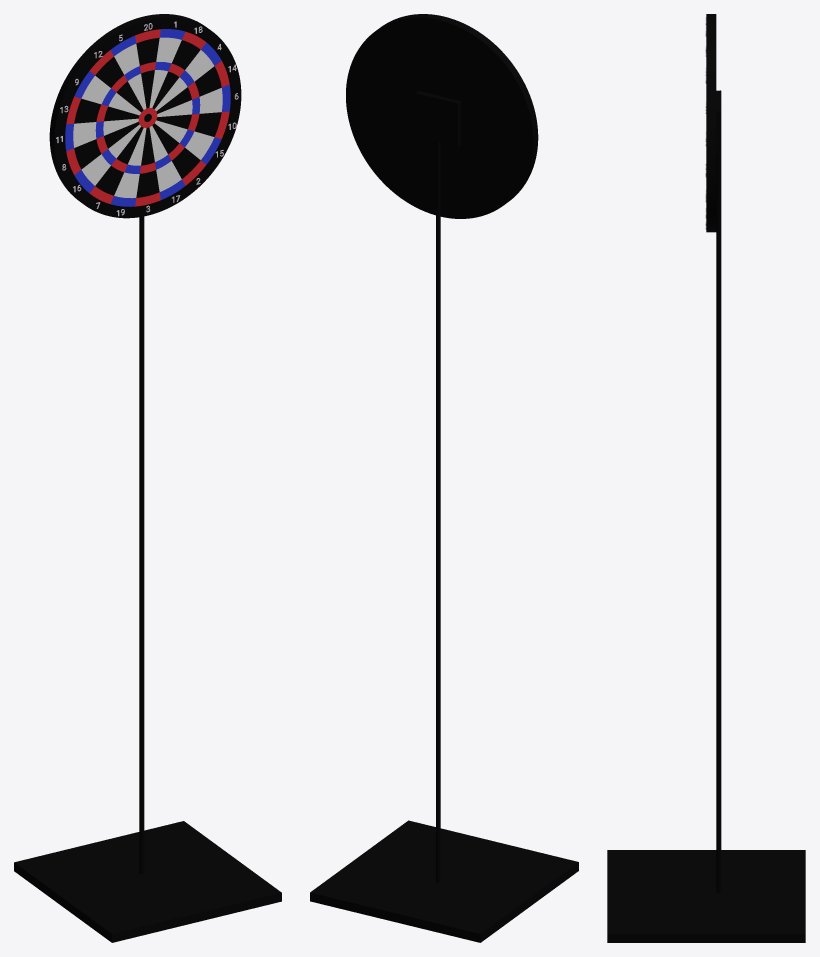
Rendered from board.glb.
3 views of the same model, side by side, from view 1: azimuth 30°, elevation 25°; view 2: azimuth 150°, elevation 25°; view 3: azimuth 270°, elevation 25° (orthographic).
Parts seen in each view (by area): view 1: Cylinder, Cube.001, Cylinder.001; view 2: Cylinder, Cube.001, Cylinder.001, Cube; view 3: Cube.001, Cylinder.001, Cylinder.
Boxes of the visible parts, x1,y1,x2,y2 form: Cylinder: (49, 14, 241, 218); Cube.001: (14, 821, 281, 942); Cylinder.001: (139, 216, 144, 873); Cylinder: (346, 14, 538, 218); Cube.001: (310, 820, 578, 942); Cylinder.001: (436, 141, 440, 882); Cube: (416, 91, 460, 147); Cube.001: (607, 850, 805, 942); Cylinder.001: (716, 155, 721, 892); Cylinder: (706, 14, 716, 232).
Bounding box in the file's own units: 0.44 × 1.95 × 0.4.
